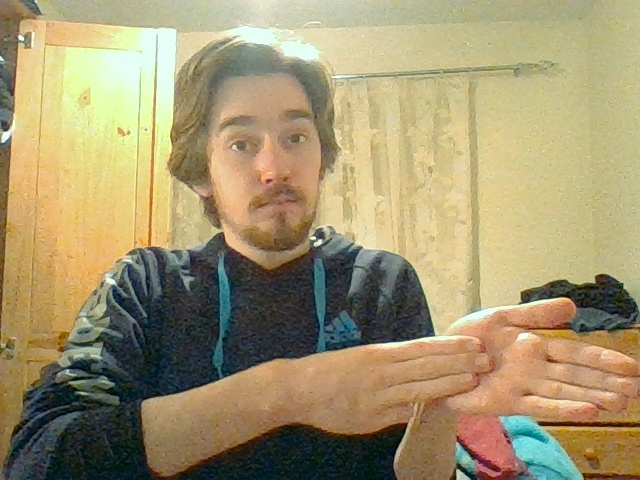mother: (374, 296, 640, 420)
